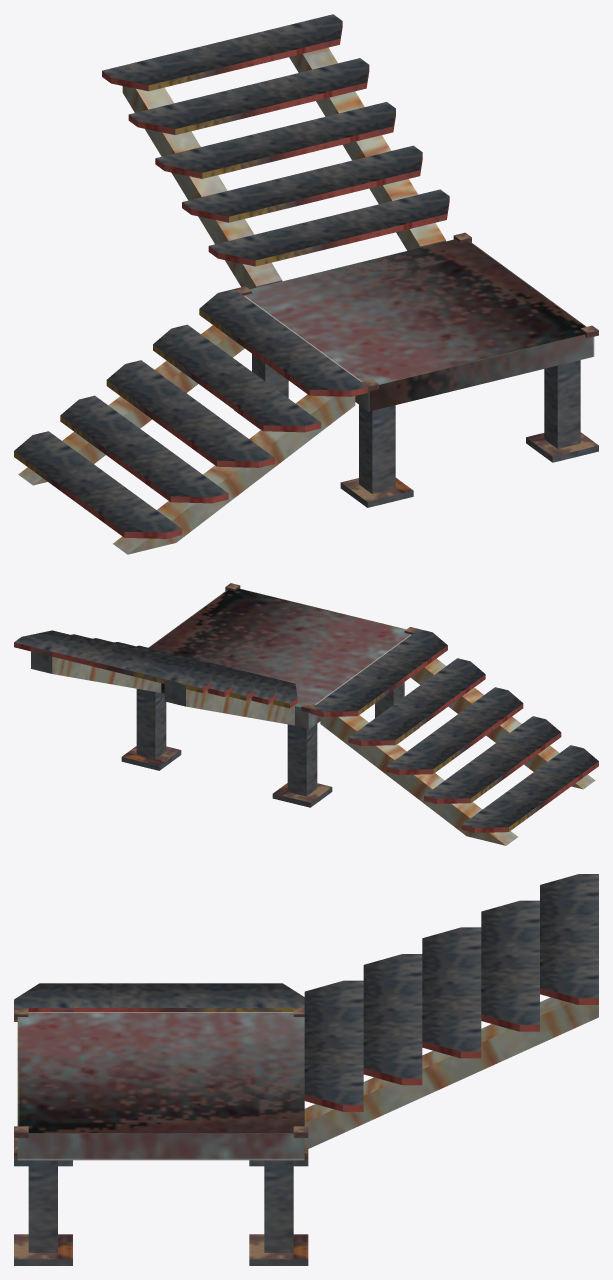
The model's file is SM_METAL_STAIRS_03.fbx.
3 renders of one model, top to bottom at view 1: azimuth 30°, elevation 25°; view 2: azimuth 150°, elevation 25°; view 3: azimuth 270°, elevation 25°, orthographic. The views are drawn at different scales.
Visible parts, largest first — view 1: SM_METAL STAIRS_03; view 2: SM_METAL STAIRS_03; view 3: SM_METAL STAIRS_03.
Part boxes in pixels (x1,y1,x2,y2): SM_METAL STAIRS_03: [14, 14, 598, 554]; SM_METAL STAIRS_03: [14, 583, 598, 845]; SM_METAL STAIRS_03: [14, 874, 598, 1265].
Bounding box in the file's own units: 4 × 2.01 × 3.98.
